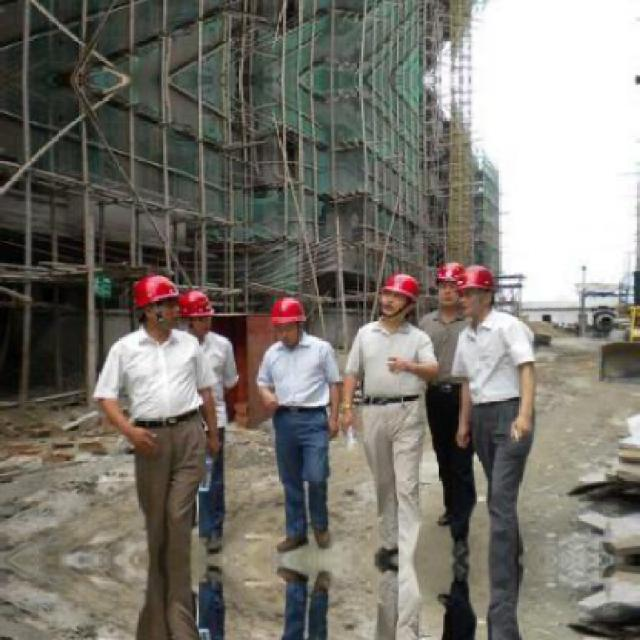helmet: (130, 276, 182, 336), (376, 268, 424, 323), (452, 264, 498, 318), (178, 289, 216, 340), (268, 297, 308, 343), (437, 262, 465, 309)
